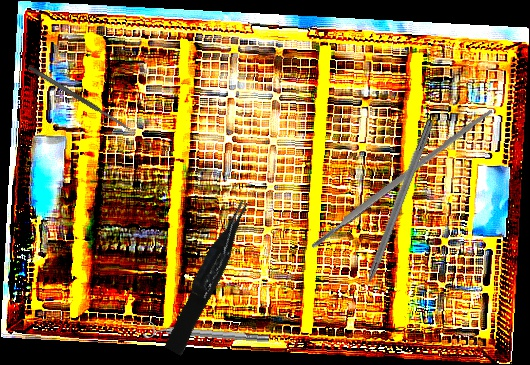Fixation Ring: (142, 318, 270, 350)
Hook Surgical: (353, 117, 436, 308)
Scalpel Handle: (308, 106, 495, 250)
Spatula Surgical: (27, 64, 131, 132)
Tissue Forceps: (157, 197, 262, 357)
